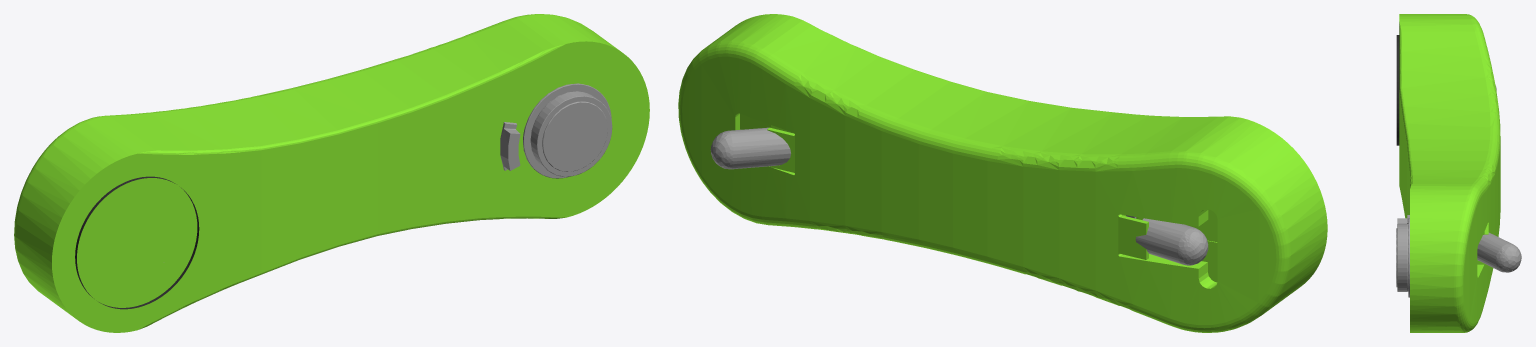
The picture shows the model from 3 angles, left to right: view 1: azimuth 30°, elevation 25°; view 2: azimuth 150°, elevation 25°; view 3: azimuth 270°, elevation 25°; orthographic projection. The views are drawn at different scales.
Parts seen in each view (by area): view 1: node; view 2: node; view 3: node.
Part boxes in pixels (bbox=[...]): node: bbox=[14, 14, 649, 332]; node: bbox=[678, 14, 1327, 332]; node: bbox=[1396, 14, 1521, 332].
Bounding box in the file's own units: 1092 × 305 × 330.
